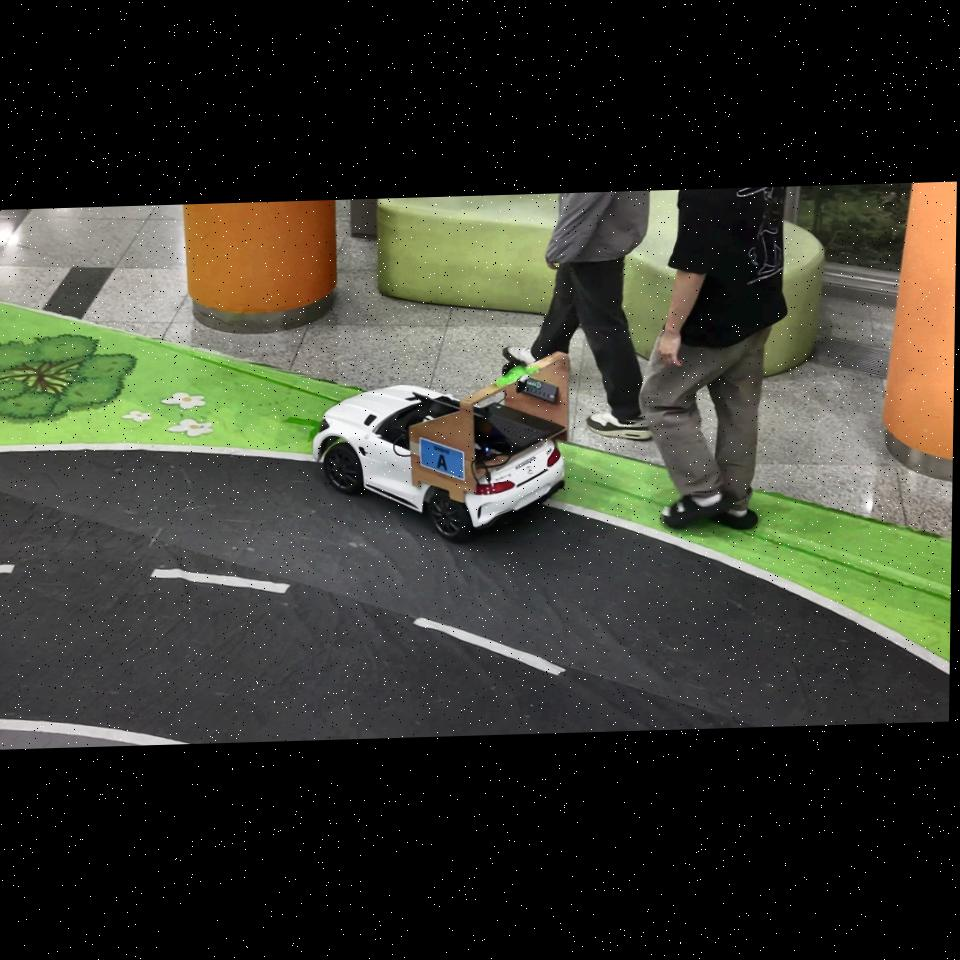broken_line: (413, 617, 566, 676), (150, 568, 291, 593), (0, 564, 15, 574)
